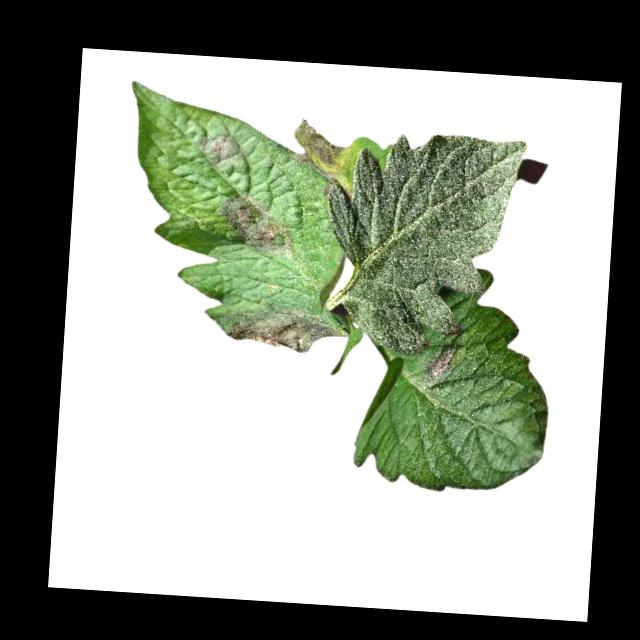Late_blight: (212, 301, 345, 356), (219, 192, 299, 264), (291, 117, 351, 191), (190, 129, 245, 170), (421, 345, 453, 383)
